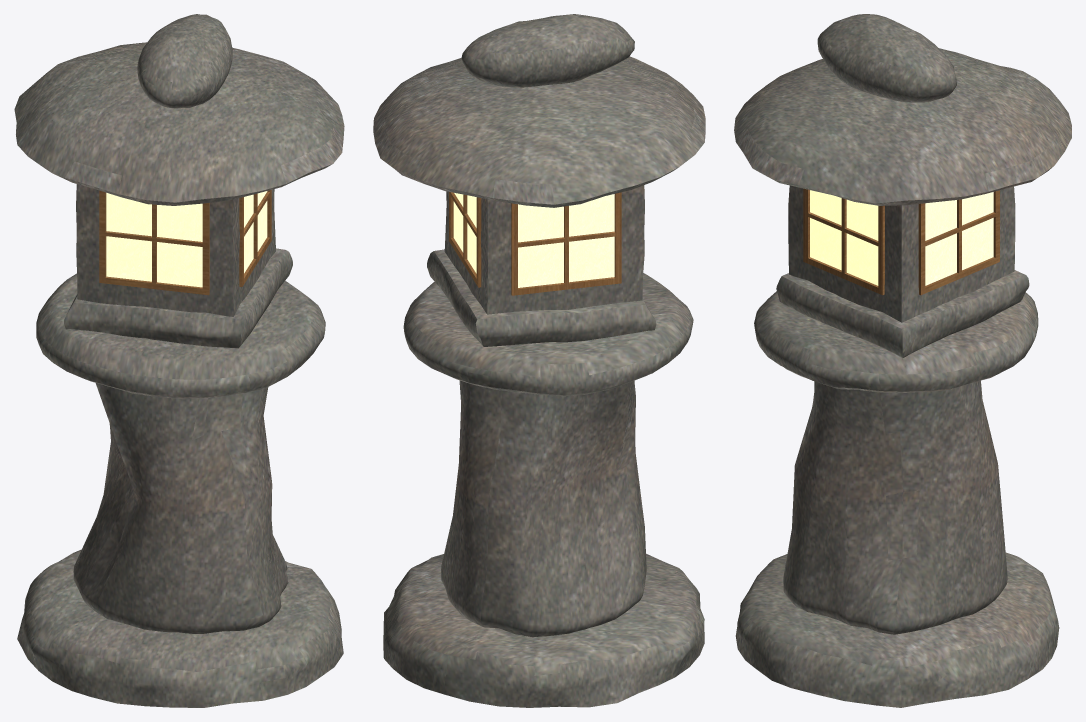
Rendered from stone_lantern.glb.
3 renders of one model, left to right at view 1: azimuth 30°, elevation 25°; view 2: azimuth 150°, elevation 25°; view 3: azimuth 270°, elevation 25°, orthographic.
Parts seen in each view (by area): view 1: Lamp, Emitter, Frame; view 2: Lamp, Emitter, Frame; view 3: Lamp, Emitter, Frame.
Boxes of the visible parts, bbox=[...] form: Lamp: bbox=[14, 14, 344, 707]; Emitter: bbox=[106, 191, 267, 287]; Frame: bbox=[99, 190, 271, 295]; Lamp: bbox=[373, 14, 705, 707]; Emitter: bbox=[453, 193, 614, 287]; Frame: bbox=[449, 192, 621, 295]; Lamp: bbox=[734, 14, 1071, 707]; Emitter: bbox=[810, 190, 993, 285]; Frame: bbox=[803, 188, 999, 295].
Bounding box in the file's own units: 0.6252 × 1.27 × 0.6332.
Materials: 3 (3 with a texture image).
